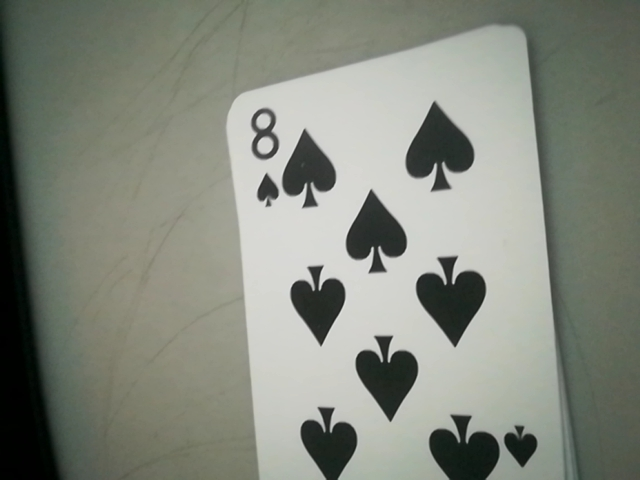ht 8: (239, 98, 294, 222)
